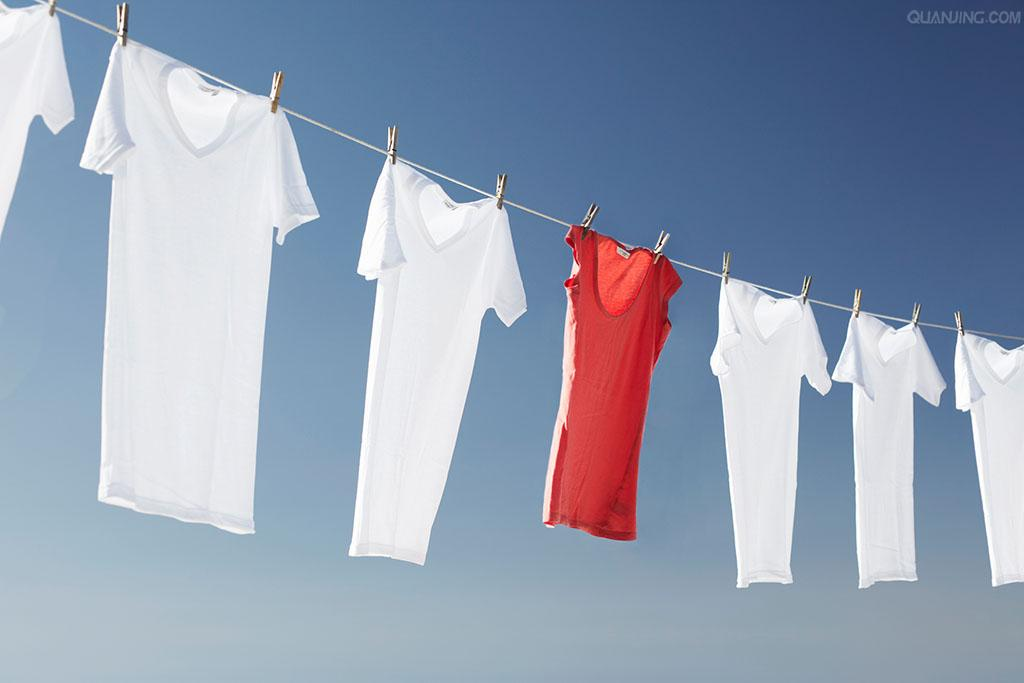flexible: (81, 24, 320, 544), (352, 153, 530, 564), (544, 217, 679, 542), (708, 269, 827, 588), (830, 298, 949, 586)
